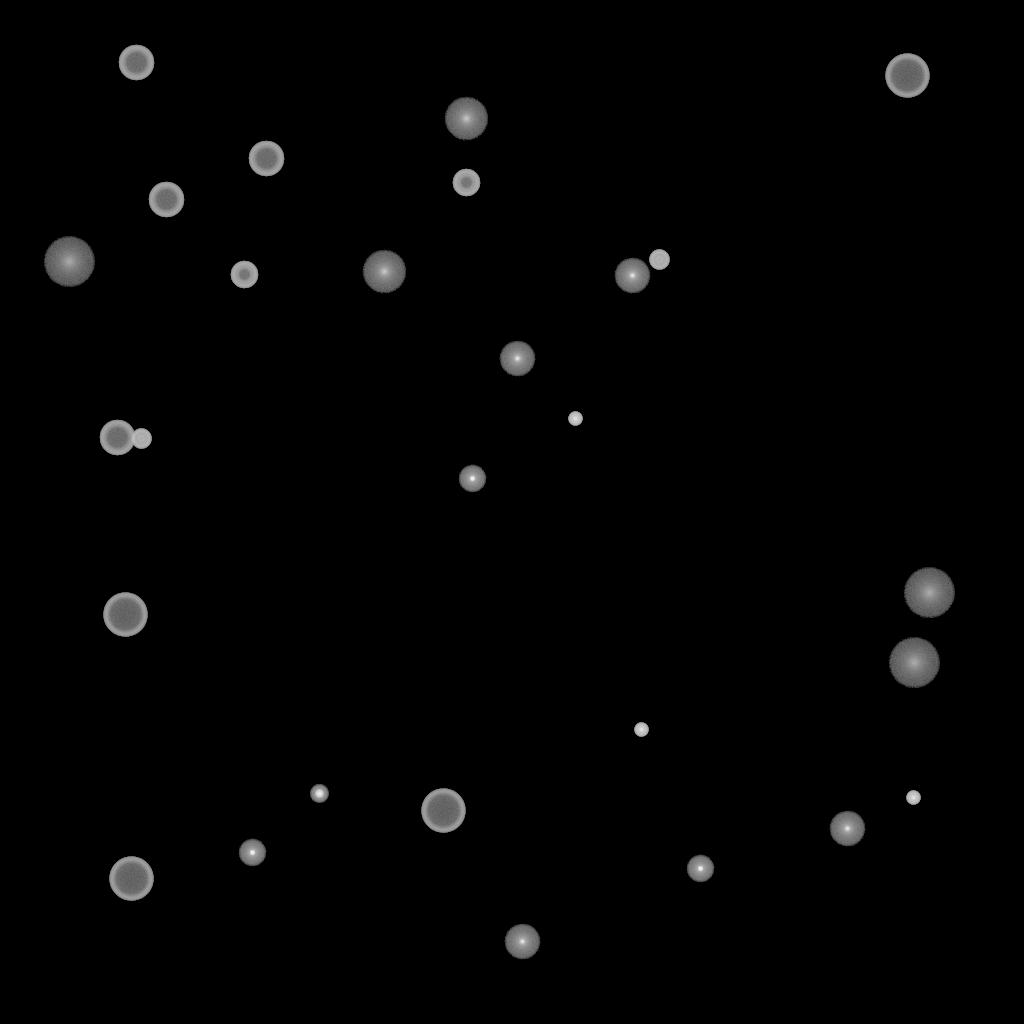depth:-10: (458, 465, 486, 493), (238, 839, 266, 867), (686, 855, 714, 883)
depth:-20: (310, 785, 328, 803)
depth:-30: (634, 723, 648, 737), (568, 412, 582, 426), (906, 791, 920, 805)
depth:-40: (649, 250, 669, 270), (131, 429, 151, 449)
depth:-50: (452, 169, 480, 197), (230, 261, 258, 289)
depth:-60: (148, 182, 184, 218), (99, 420, 135, 456), (118, 45, 154, 81), (248, 141, 284, 177)
depth:-70: (103, 593, 147, 637), (885, 54, 929, 98), (421, 789, 465, 833), (109, 857, 153, 901)
depth:0: (614, 258, 650, 294), (504, 924, 540, 960), (829, 811, 865, 847), (499, 341, 535, 377)
depth:10: (362, 250, 406, 294), (444, 97, 488, 141)
depth:20: (888, 638, 940, 688), (43, 237, 95, 287), (903, 568, 955, 618)
